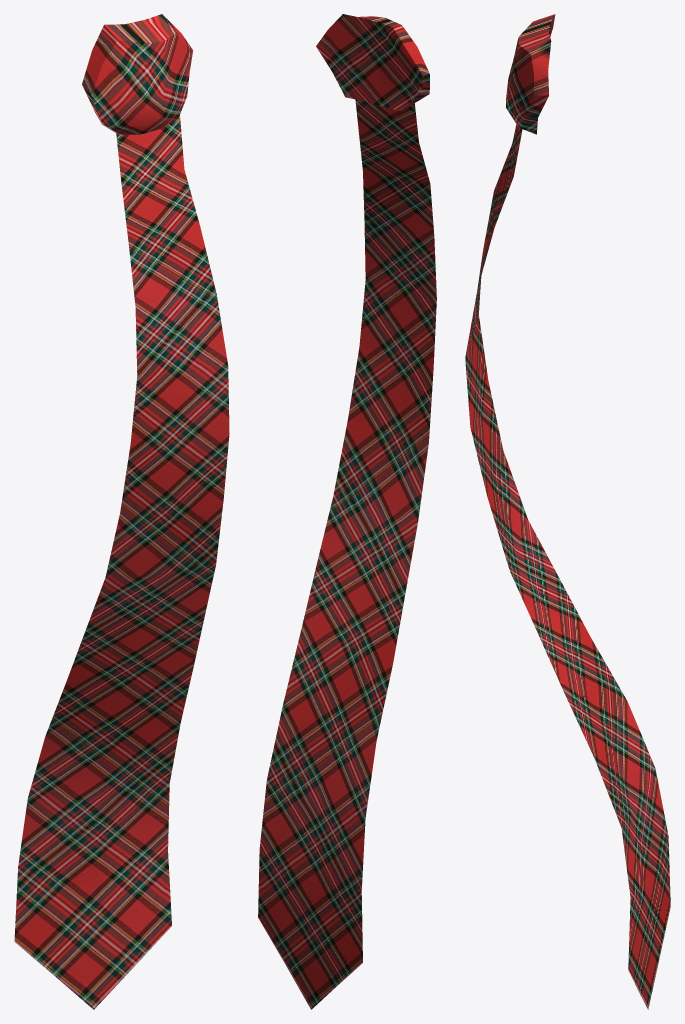
File: Pose-7_SuitTie-1.fbx
3 views of the same model, side by side, from view 1: azimuth 30°, elevation 25°; view 2: azimuth 150°, elevation 25°; view 3: azimuth 270°, elevation 25° (orthographic). The views are drawn at different scales.
Parts seen in each view (by area): view 1: Pose-7_SuitTie-1; view 2: Pose-7_SuitTie-1; view 3: Pose-7_SuitTie-1.
Part boxes in pixels (<box>): Pose-7_SuitTie-1: <box>14,14,229,1009</box>; Pose-7_SuitTie-1: <box>258,14,436,1009</box>; Pose-7_SuitTie-1: <box>465,14,670,1009</box>.
Size of the model in its own units: 6.73 by 49.01 by 9.34.
